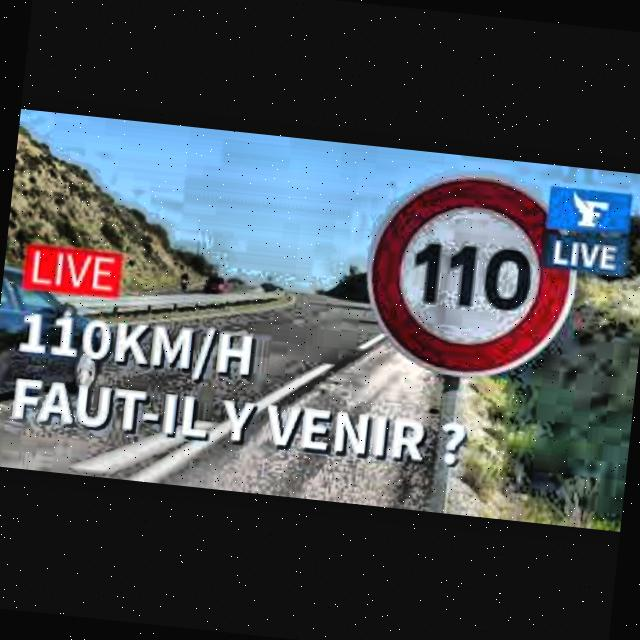speed_110: (361, 167, 570, 379)
